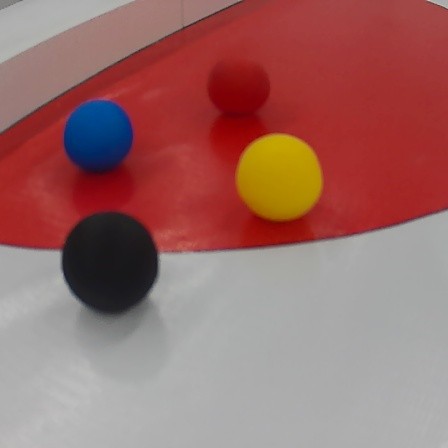black: (51, 212, 168, 318)
blue: (60, 99, 132, 173)
red: (211, 56, 270, 112)
red_base: (2, 3, 446, 250)
yellow: (235, 132, 323, 223)
